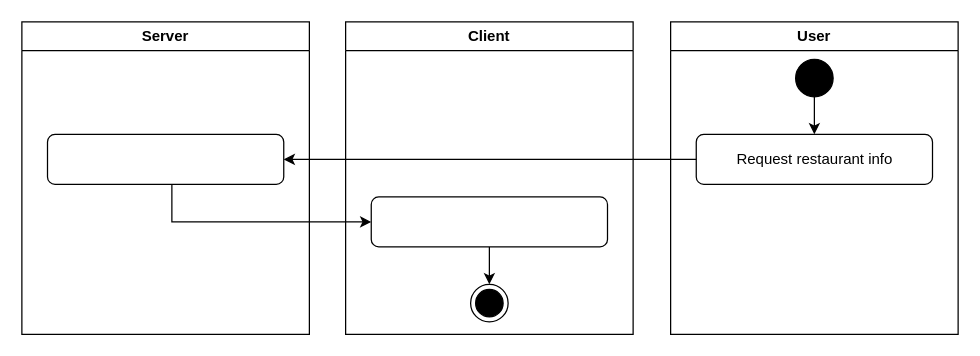
This 980x356 diagram has some shape labels left out. Here are the shapes that lost their labels. From the top down, the centre of each, then its label:
At [165,158]: "Fetch restaurant info and media list".
At [489,221]: "Show restaurant info and media list".
